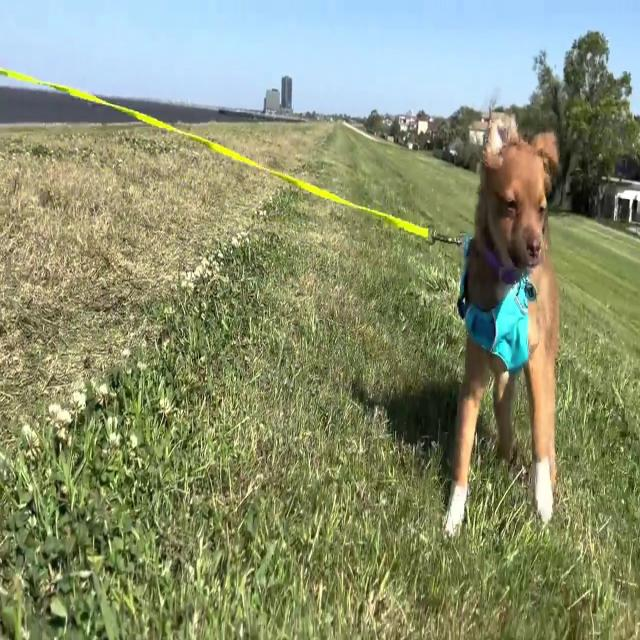Dog: (442, 111, 560, 538)
